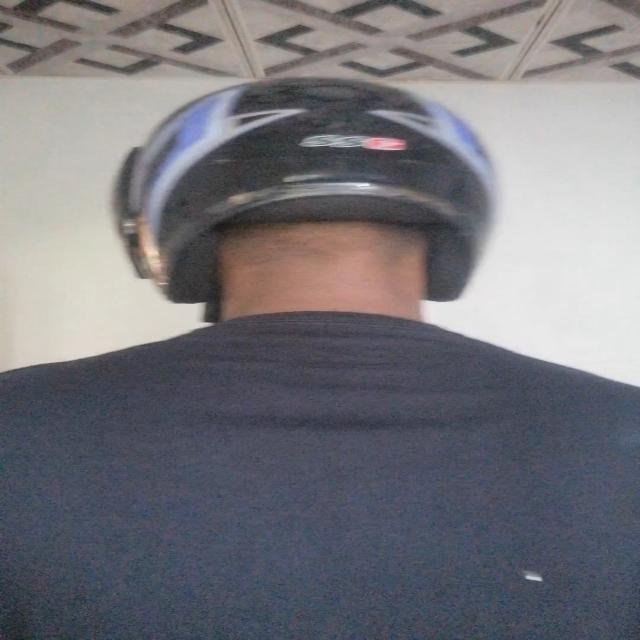Helmet_Wearer: (105, 35, 551, 420)
Person: (1, 76, 639, 640)
